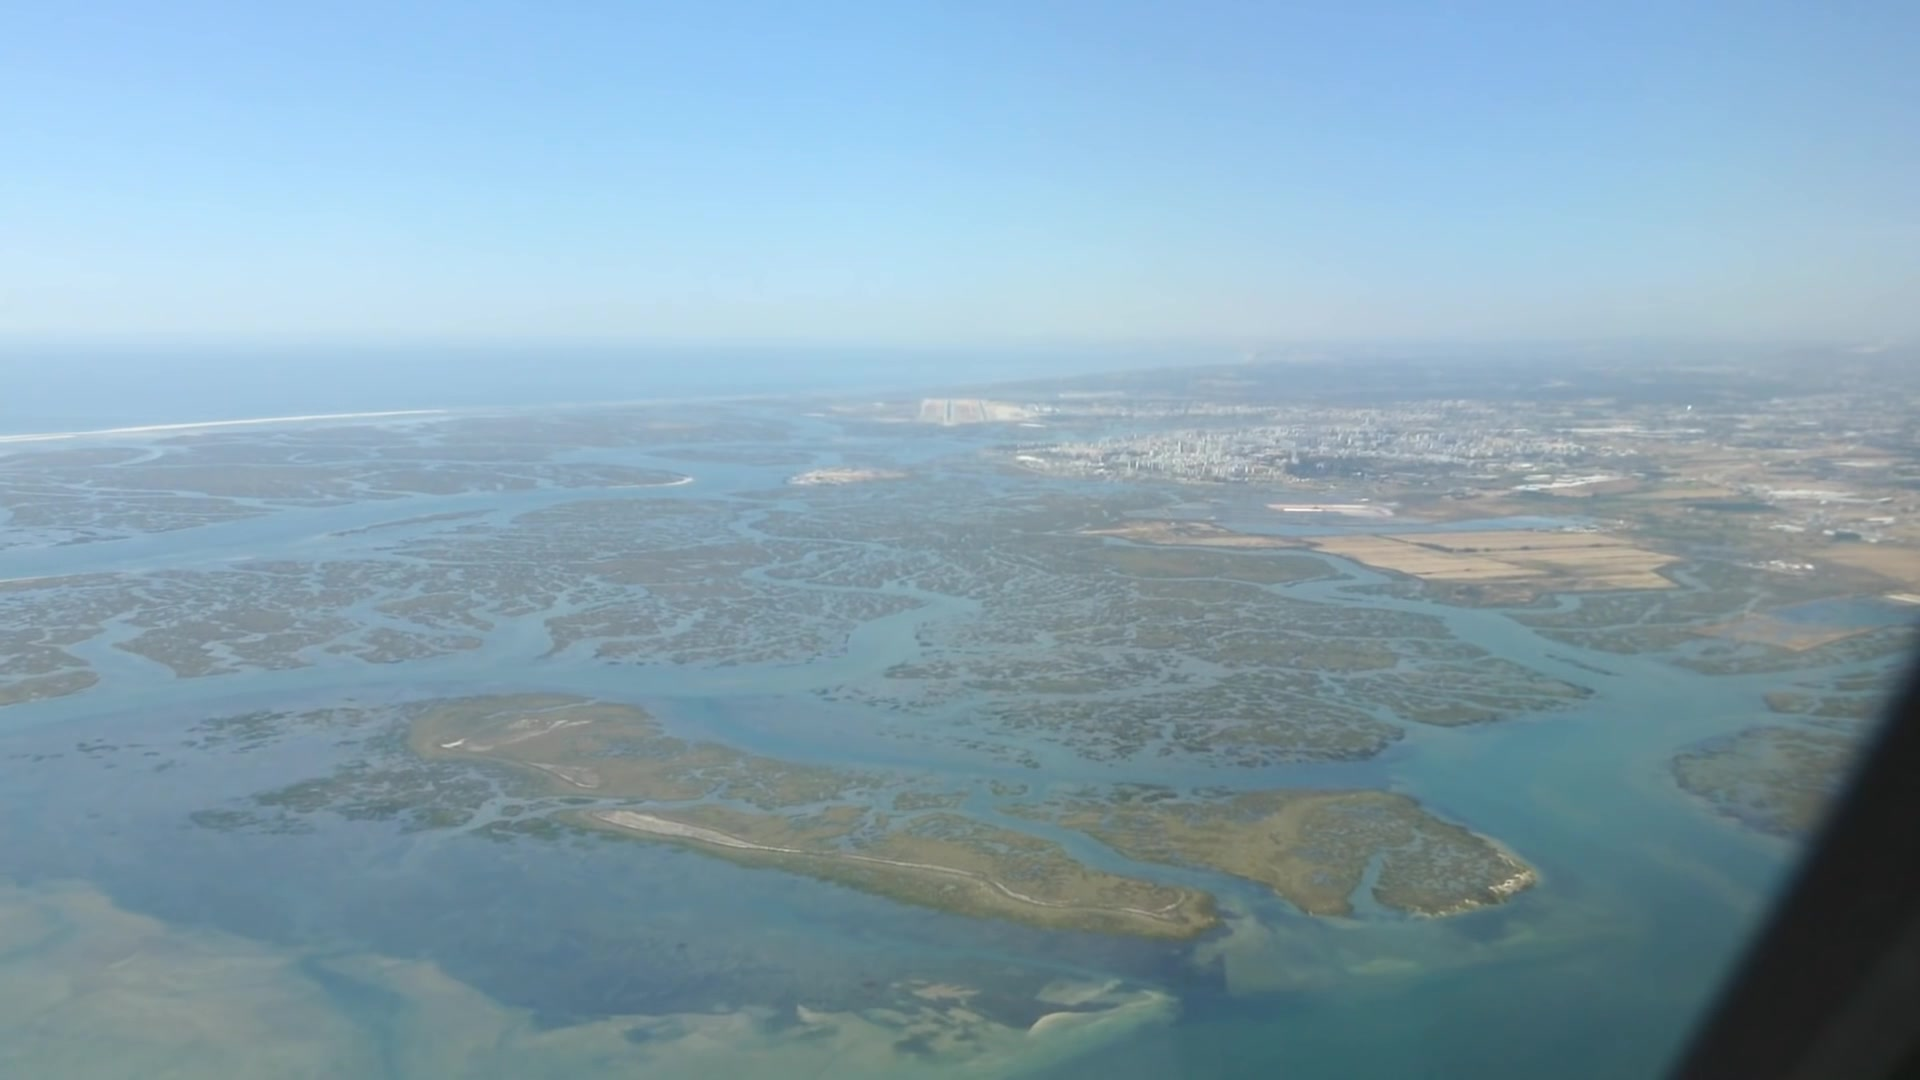runway: (975, 400, 992, 425), (942, 397, 953, 427)
